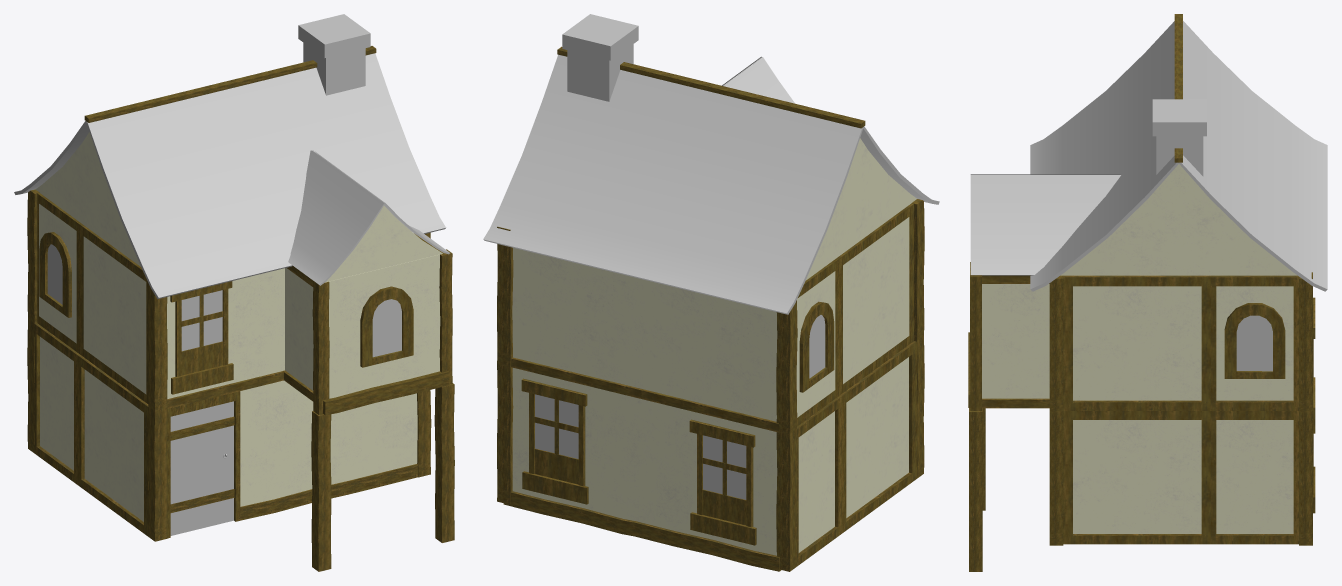
File: House Two.fbx
3 views of the same model, side by side, from view 1: azimuth 30°, elevation 25°; view 2: azimuth 150°, elevation 25°; view 3: azimuth 270°, elevation 25° (orthographic). The views are drawn at different scales.
Visible parts, largest first — view 1: Roof7, Roof8, Wall_Plane3, Wall_Frame8, Wall_Plane5, Wall_Frame9, Wall_Top_bottom_Plank8, Door_Open_Door5, Roof16, Wall_Frame_Half6, Window_Rectangle11, Roof_End8 (+23 smaller); view 2: Roof7, Roof8, Wall_Plane_Long3, Wall_Top_bottom_Plank6, Wall_Top_bottom_Plank7, Wall_Frame8, Wall_Frame9, Window_Rectangle3, Window_Rectangle10, Wall_Frame_Half6, Roof_End8, Chimney2 (+14 smaller); view 3: Wall_Frame11, Wall_Frame10, Roof7, Roof8, Roof_End9, Wall_Frame_Half8, Roof16, Wall_Top_bottom_Plank12, Wall_Frame_Half9, Window_Arch6, Chimney2, Wood_Pillar_Thick24 (+6 smaller).
Boxes of the visible parts, box(x1,y1,x2,y2) form: Roof7: box(14, 88, 292, 299); Roof8: box(231, 53, 445, 244); Wall_Plane3: box(240, 380, 361, 506); Wall_Frame8: box(76, 354, 148, 536); Wall_Plane5: box(325, 253, 442, 398); Wall_Frame9: box(79, 223, 148, 403); Wall_Top_bottom_Plank8: box(167, 268, 284, 408); Door_Open_Door5: box(170, 401, 234, 535); Roof16: box(288, 150, 449, 285); Wall_Frame_Half6: box(33, 323, 78, 483); Window_Rectangle11: box(170, 281, 233, 394); Roof_End8: box(35, 132, 140, 266); Roof7: box(635, 91, 939, 314); Roof8: box(483, 54, 709, 277); Wall_Plane_Long3: box(512, 368, 777, 555); Wall_Top_bottom_Plank6: box(641, 279, 778, 432); Wall_Top_bottom_Plank7: box(511, 248, 643, 398); Wall_Frame8: box(838, 341, 916, 533); Wall_Frame9: box(836, 203, 913, 396); Window_Rectangle3: box(521, 378, 588, 504); Window_Rectangle10: box(689, 419, 756, 545); Wall_Frame_Half6: box(795, 396, 841, 566); Roof_End8: box(806, 138, 916, 280); Chimney2: box(562, 14, 638, 101); Wall_Frame11: box(1063, 275, 1210, 410); Wall_Frame10: box(1063, 411, 1210, 544); Roof7: box(1030, 21, 1327, 216); Roof8: box(1030, 93, 1327, 291); Roof_End9: box(1060, 164, 1297, 275); Wall_Frame_Half8: box(1210, 411, 1298, 544); Roof16: box(970, 174, 1120, 275); Wall_Top_bottom_Plank12: box(982, 275, 1049, 408); Wall_Frame_Half9: box(1210, 275, 1298, 410); Window_Arch6: box(1224, 303, 1285, 378); Chimney2: box(1152, 99, 1206, 176); Wood_Pillar_Thick24: box(969, 408, 982, 571).
Size of the model in its own units: 725 by 1060 by 763.
